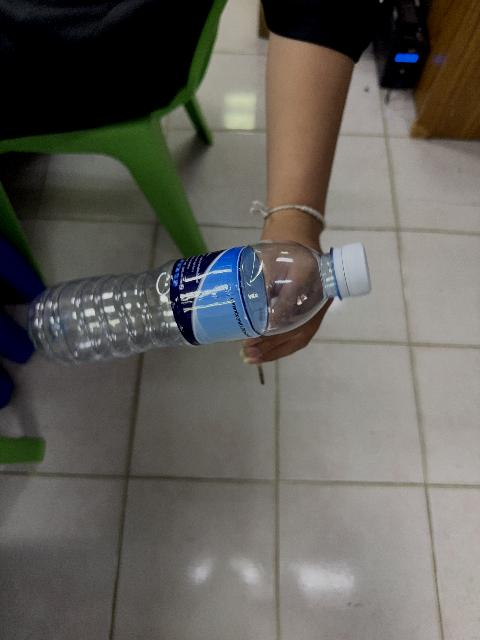bottle: (28, 241, 370, 363)
